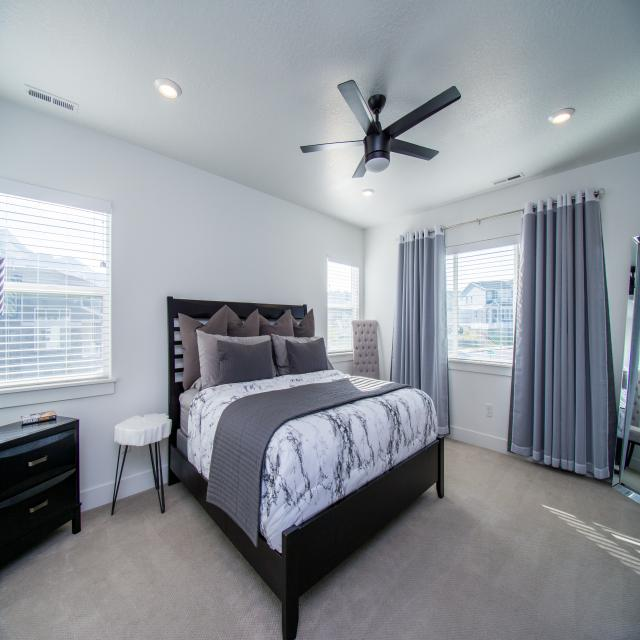floor: (295, 436, 640, 640), (0, 482, 283, 640)
wall: (0, 99, 364, 512), (364, 151, 640, 423), (443, 361, 512, 454), (116, 445, 155, 501), (114, 445, 124, 502), (159, 437, 169, 484), (151, 442, 157, 480), (157, 442, 161, 486)
